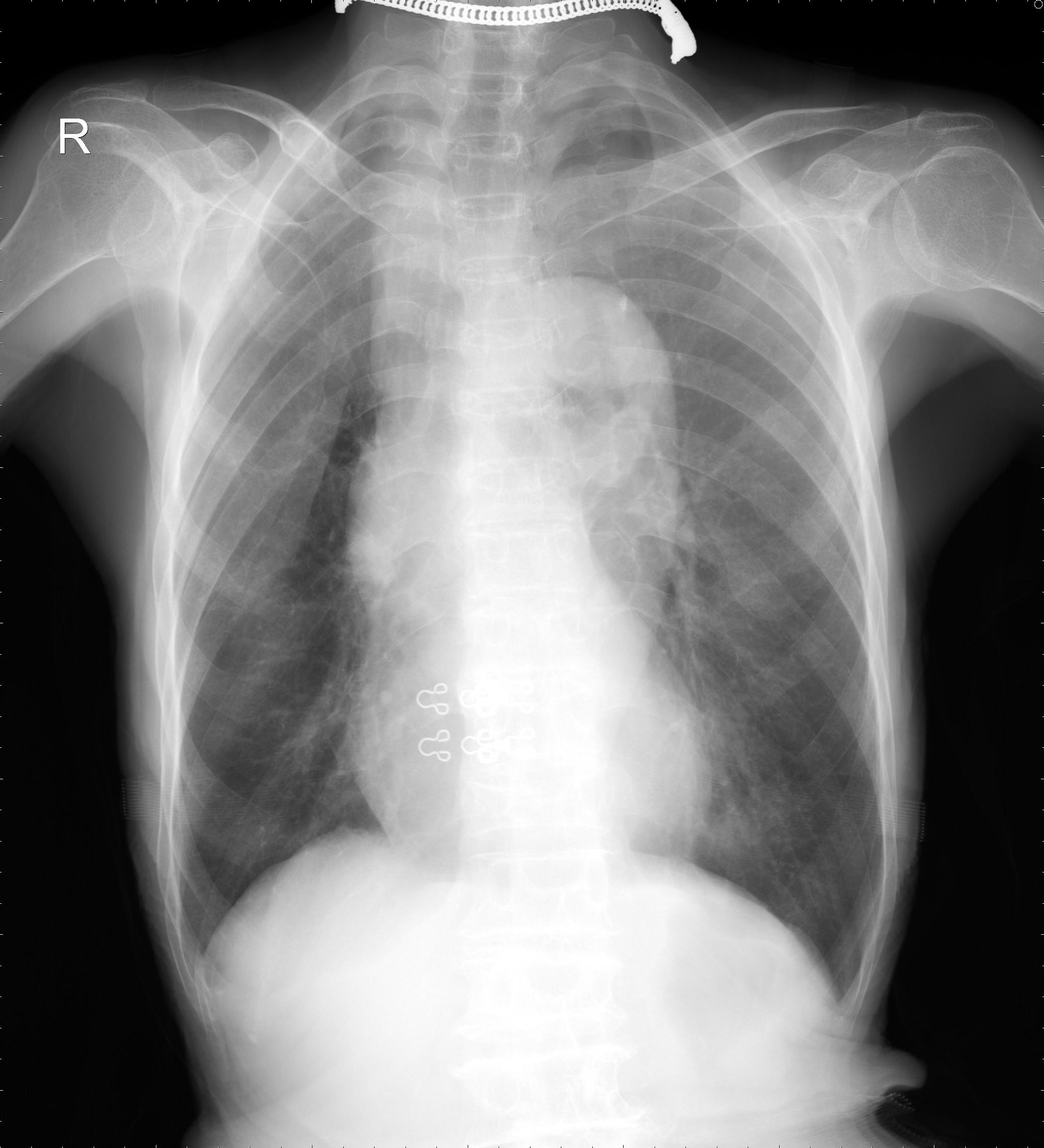Aortic enlargement: (518, 273, 678, 490)
